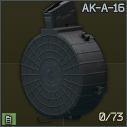AK 7.62x39 ProMag AK-A-16 73-round drum magazine: (0, 0, 127, 127)
